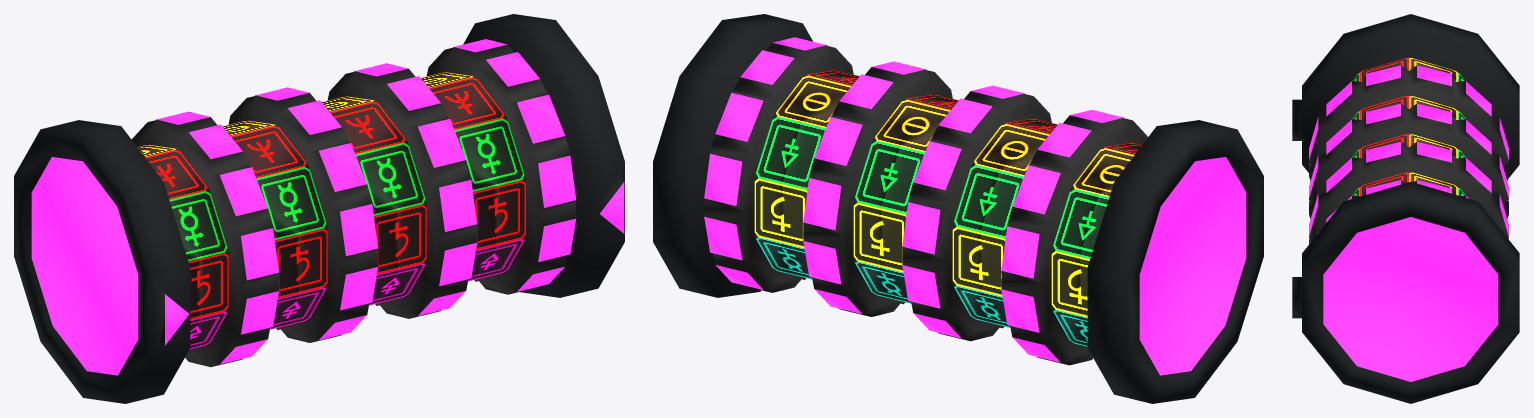
File: Padlock_Roman_Numbers.glb
The picture shows the model from 3 angles, left to right: view 1: azimuth 30°, elevation 25°; view 2: azimuth 150°, elevation 25°; view 3: azimuth 270°, elevation 25°; orthographic projection. The views are drawn at different scales.
Visible parts, largest first — view 1: PiratePadlock_01_base, Cylinder.014, Cylinder.012, Cylinder.013, Cylinder.016; view 2: PiratePadlock_01_base, Cylinder.013, Cylinder.014, Cylinder.012, Cylinder.016; view 3: PiratePadlock_01_base, Cylinder.012, Cylinder.016, Cylinder.013, Cylinder.014.
Boxes of the visible parts, <box> form: PiratePadlock_01_base: <box>14,14,624,403</box>; Cylinder.014: <box>421,39,576,294</box>; Cylinder.012: <box>223,87,378,342</box>; Cylinder.013: <box>321,63,477,318</box>; Cylinder.016: <box>131,111,278,367</box>; PiratePadlock_01_base: <box>653,14,1263,403</box>; Cylinder.013: <box>803,61,958,316</box>; Cylinder.014: <box>704,37,859,292</box>; Cylinder.012: <box>902,85,1057,341</box>; Cylinder.016: <box>1001,110,1147,365</box>; PiratePadlock_01_base: <box>1292,14,1519,403</box>; Cylinder.012: <box>1309,95,1508,219</box>; Cylinder.016: <box>1309,57,1508,180</box>; Cylinder.013: <box>1309,133,1508,244</box>; Cylinder.014: <box>1317,171,1468,233</box>.
Bounding box in the file's own units: 0.5173 × 0.2743 × 0.2726.
Materials: 4 (1 with a texture image).
